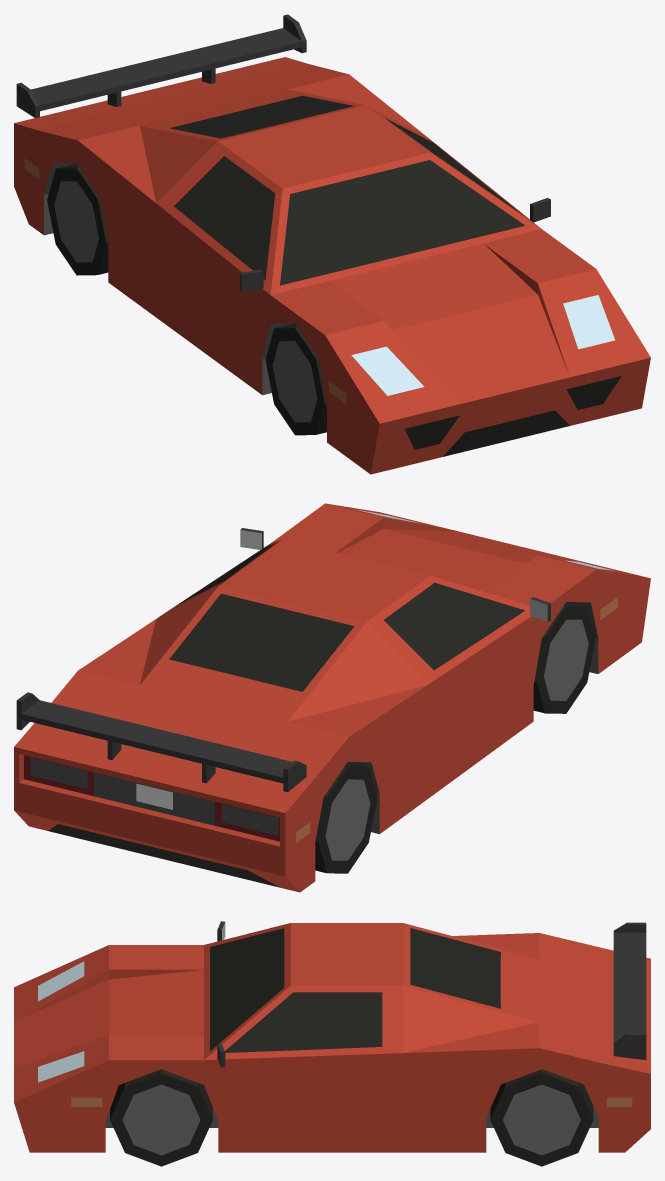
The model's file is Veh_Sports_Car_03_Red.glb.
3 views of the same model, one above another, from view 1: azimuth 30°, elevation 25°; view 2: azimuth 150°, elevation 25°; view 3: azimuth 270°, elevation 25° (orthographic). The views are drawn at different scales.
Visible parts, largest first — view 1: Sports_Car_03_Red, Wheel_RR, Wheel_FR; view 2: Sports_Car_03_Red, Wheel_RR, Wheel_FR; view 3: Sports_Car_03_Red, Wheel_RL, Wheel_FL.
Part boxes in pixels (x1=…): Sports_Car_03_Red: x1=14, y1=14, x2=650, y2=474; Wheel_RR: x1=47, y1=163, x2=108, y2=275; Wheel_FR: x1=265, y1=323, x2=326, y2=435; Sports_Car_03_Red: x1=14, y1=503, x2=650, y2=892; Wheel_RR: x1=315, y1=762, x2=377, y2=873; Wheel_FR: x1=533, y1=602, x2=595, y2=713; Sports_Car_03_Red: x1=14, y1=921, x2=650, y2=1152; Wheel_RL: x1=490, y1=1069, x2=593, y2=1166; Wheel_FL: x1=110, y1=1069, x2=212, y2=1166.
Size of the model in its own units: 1.25 by 0.6867 by 2.56.
1 material, 1 textured.
